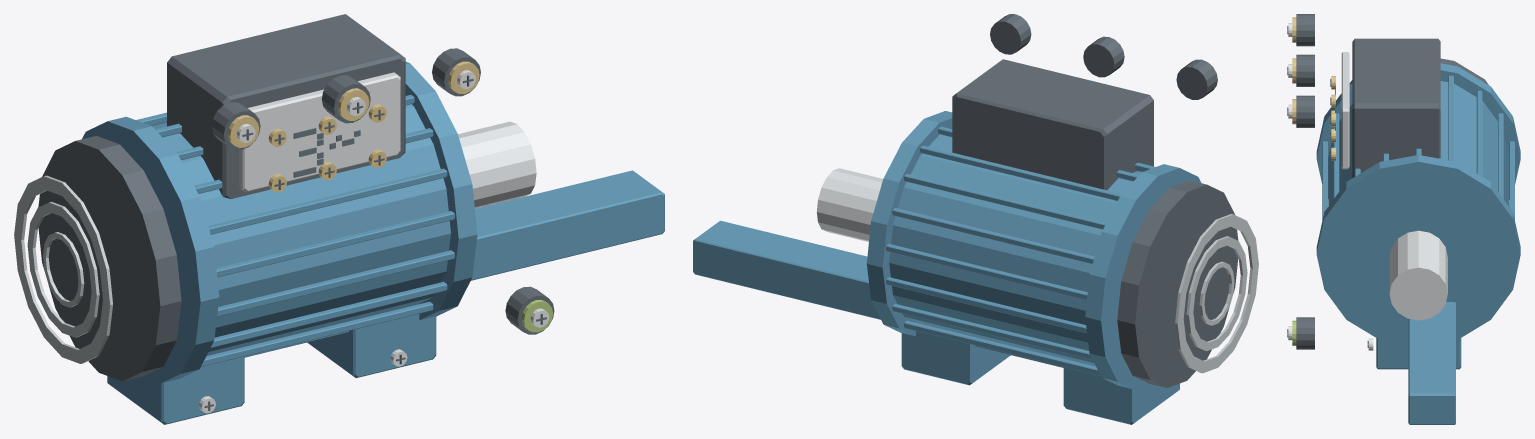
Rendered from motor3Phase.glb.
The picture shows the model from 3 angles, left to right: view 1: azimuth 30°, elevation 25°; view 2: azimuth 150°, elevation 25°; view 3: azimuth 270°, elevation 25°; orthographic projection. The views are drawn at different scales.
Parts seen in each view (by area): view 1: motor3Phase-preview; view 2: motor3Phase-preview; view 3: motor3Phase-preview.
Boxes of the visible parts, x1=… form: motor3Phase-preview: x1=14, y1=14, x2=664, y2=424; motor3Phase-preview: x1=693, y1=14, x2=1258, y2=424; motor3Phase-preview: x1=1287, y1=14, x2=1520, y2=424.
Bounding box in the file's own units: 5.08 × 2.82 × 2.27.
